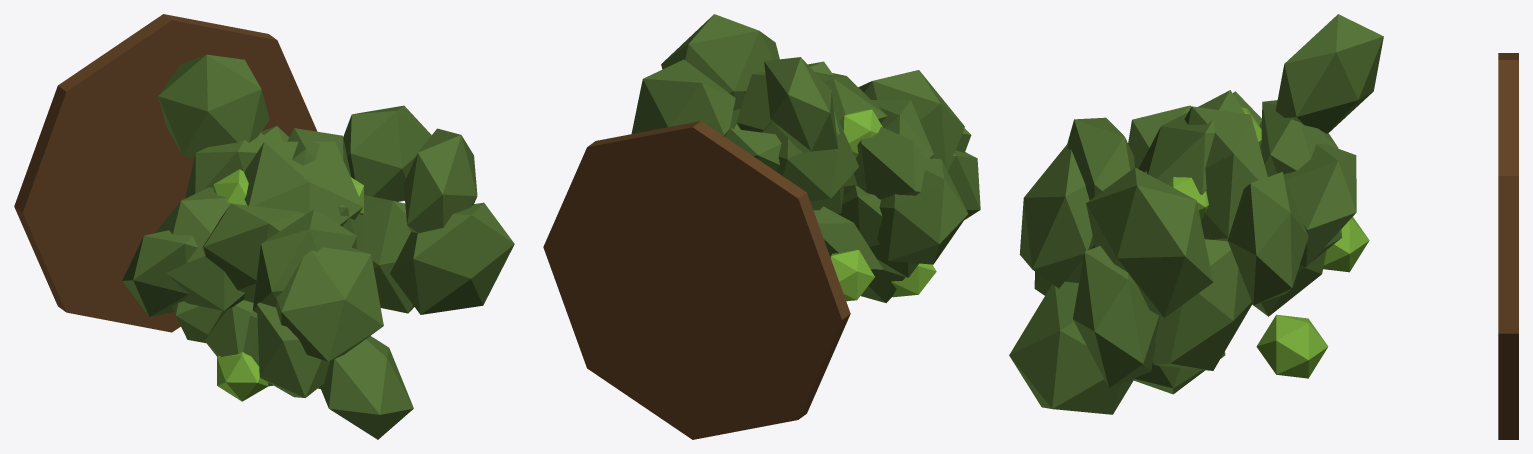
Rendered from stage_3.obj.
3 renders of one model, left to right at view 1: azimuth 30°, elevation 25°; view 2: azimuth 150°, elevation 25°; view 3: azimuth 270°, elevation 25°, orthographic. The views are drawn at different scales.
Visible parts, largest first — view 1: Tomato_Stage3_v2; view 2: Tomato_Stage3_v2; view 3: Tomato_Stage3_v2.
Part boxes in pixels (box(x1,y1,x2,y2)): Tomato_Stage3_v2: box(14, 14, 514, 439); Tomato_Stage3_v2: box(543, 14, 980, 439); Tomato_Stage3_v2: box(1009, 14, 1518, 439).
Size of the model in its own units: 0.4379 by 0.429 by 0.4953.
